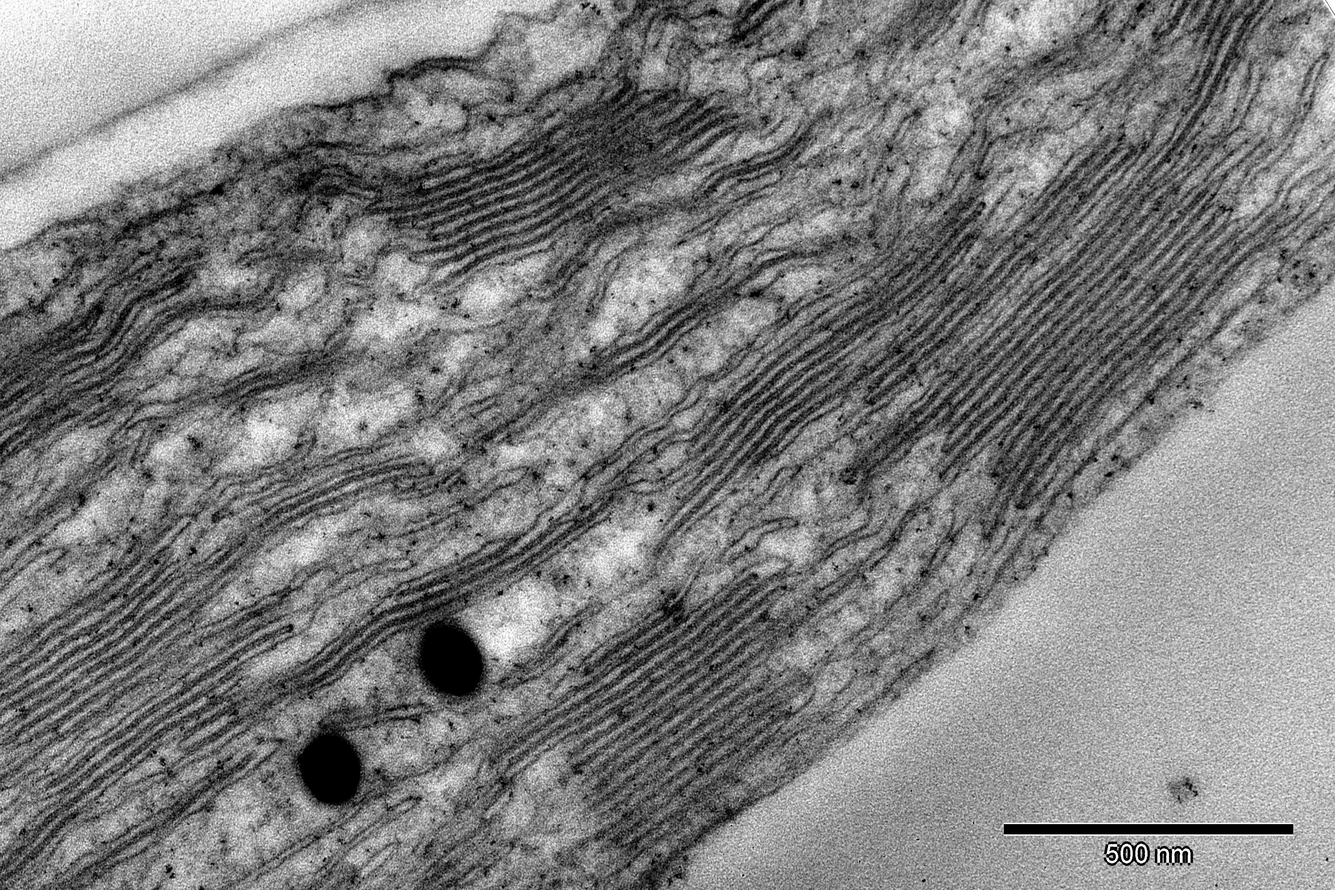granum: (660, 115, 1149, 527), (841, 164, 1305, 515), (0, 461, 388, 801), (461, 562, 822, 886), (369, 54, 746, 299), (256, 485, 603, 724), (0, 643, 271, 890), (488, 242, 760, 446), (1153, 0, 1280, 118), (391, 791, 517, 890), (0, 306, 100, 426), (13, 365, 128, 461), (206, 339, 332, 416), (210, 584, 297, 667), (867, 0, 968, 64), (720, 0, 809, 58), (375, 447, 443, 509)
